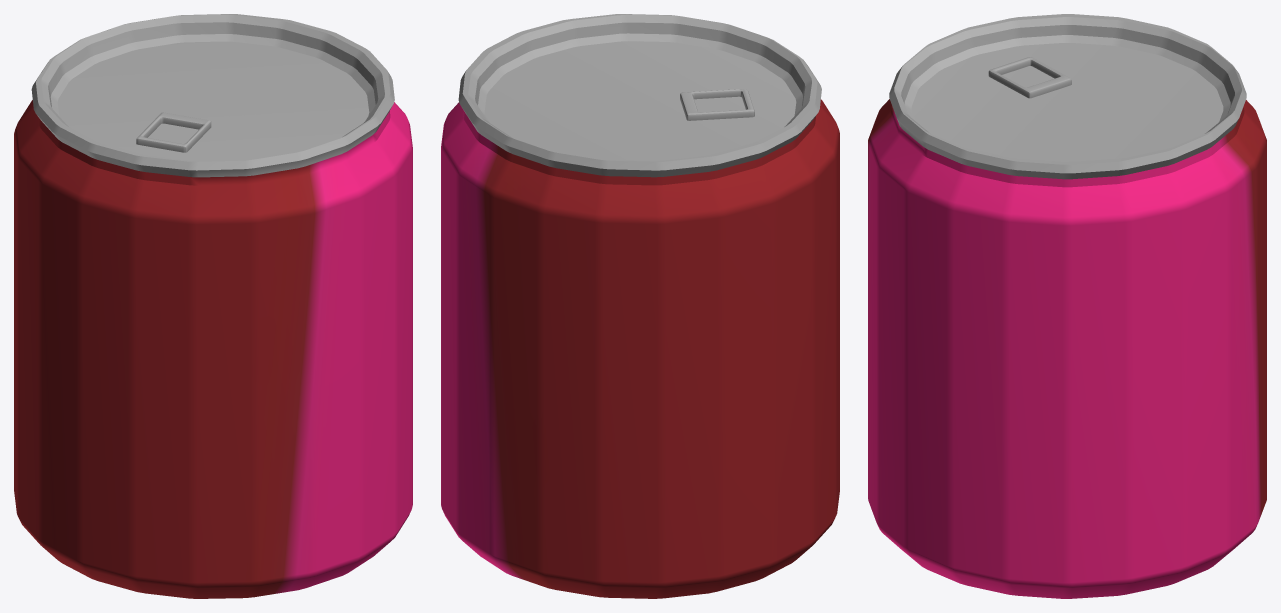
Rendered from Ürün76.fbx.
The picture shows the model from 3 angles, left to right: view 1: azimuth 30°, elevation 25°; view 2: azimuth 150°, elevation 25°; view 3: azimuth 270°, elevation 25°; orthographic projection.
Visible parts, largest first — view 1: Ürün11; view 2: Ürün11; view 3: Ürün11.
Boxes of the visible parts, x1,y1,x2,y2 form: Ürün11: [14, 14, 412, 598]; Ürün11: [441, 14, 839, 598]; Ürün11: [868, 14, 1266, 598].
Size of the model in its own units: 11.57 by 14.02 by 11.57.
